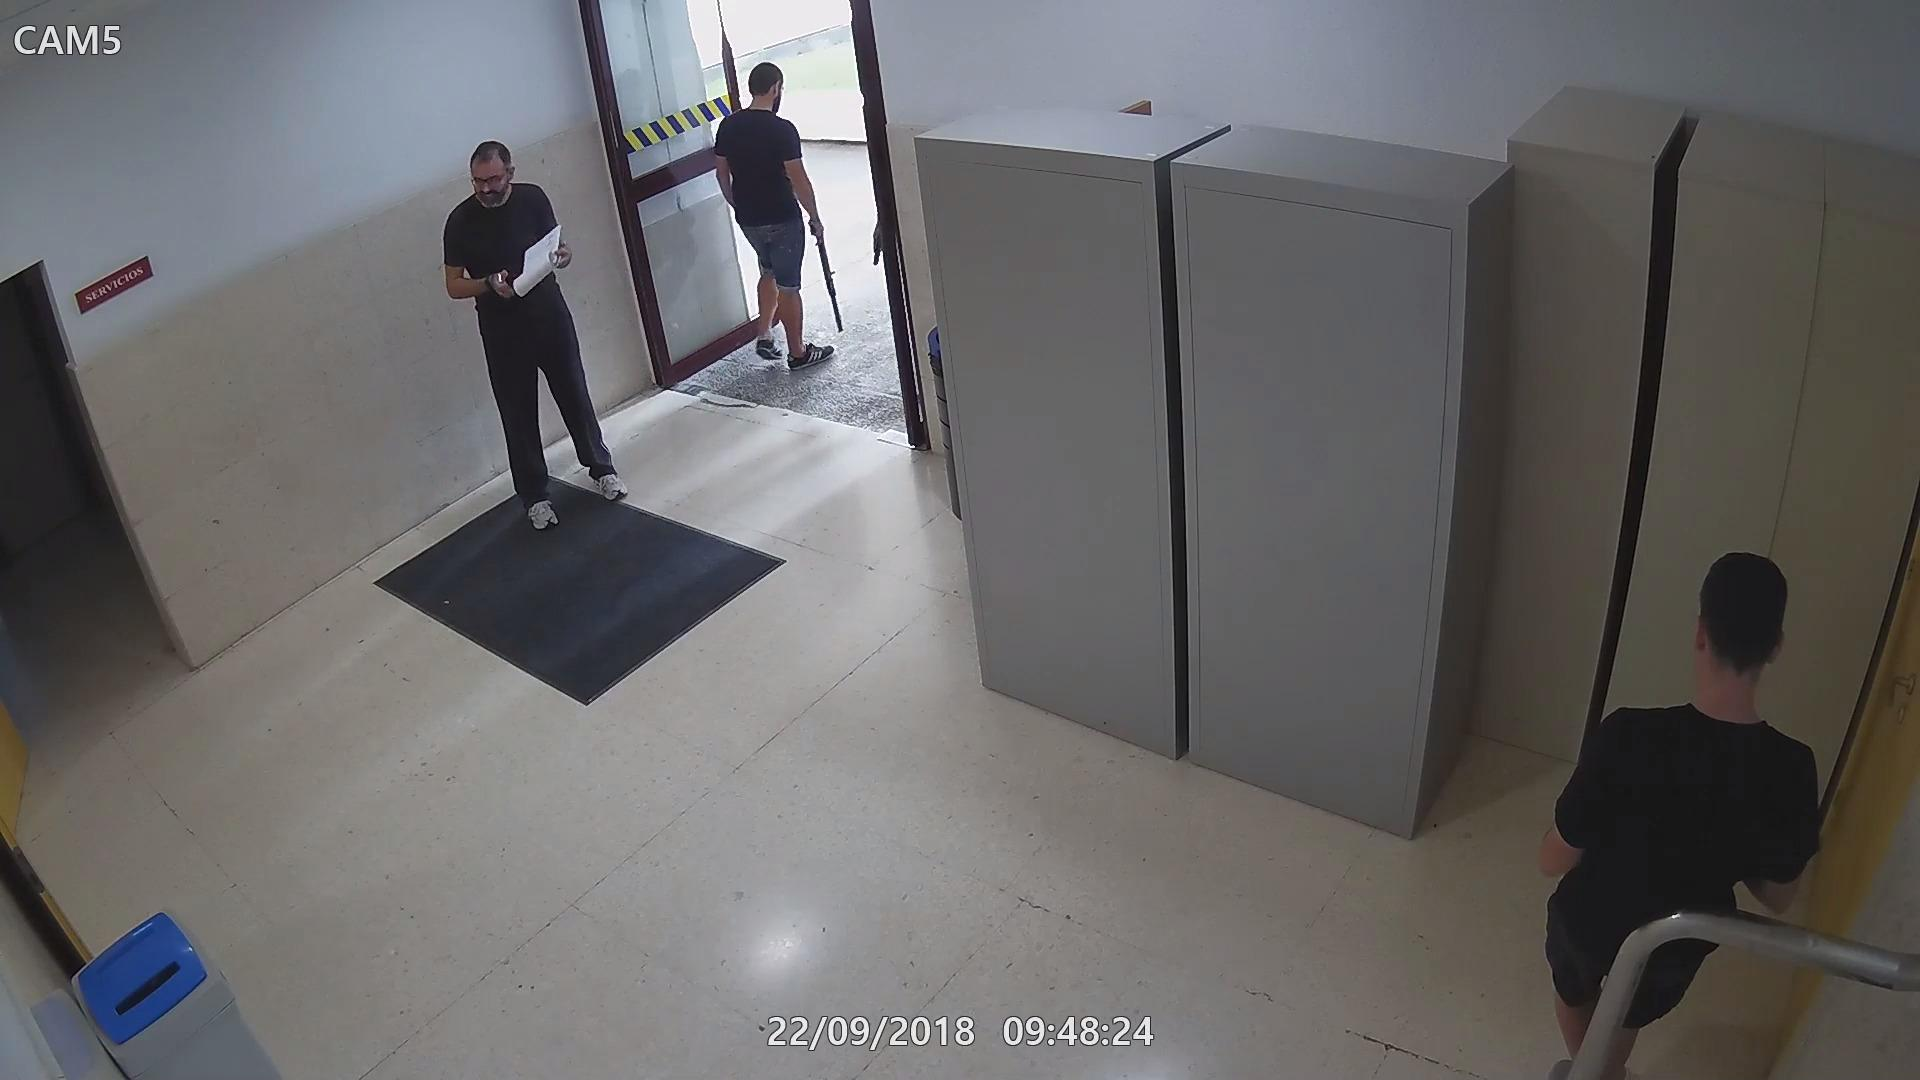Handgun: (865, 219, 891, 269)
